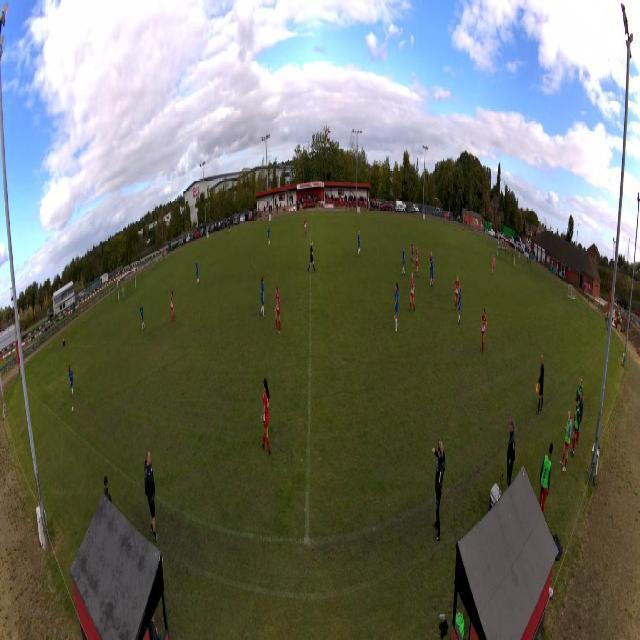ball: (72, 406, 74, 413)
player: (260, 377, 271, 457), (274, 285, 282, 334), (307, 239, 317, 275), (481, 307, 488, 354), (393, 282, 399, 332), (409, 271, 416, 312), (260, 275, 266, 319), (455, 274, 461, 313), (457, 284, 462, 328), (170, 289, 176, 324), (68, 363, 74, 398), (413, 246, 419, 280), (140, 301, 146, 331), (401, 243, 406, 278), (430, 254, 435, 288), (429, 250, 433, 284), (410, 239, 415, 266), (195, 258, 200, 285), (357, 230, 361, 257), (304, 216, 309, 237), (491, 254, 495, 276), (267, 225, 271, 246), (121, 285, 125, 304)
